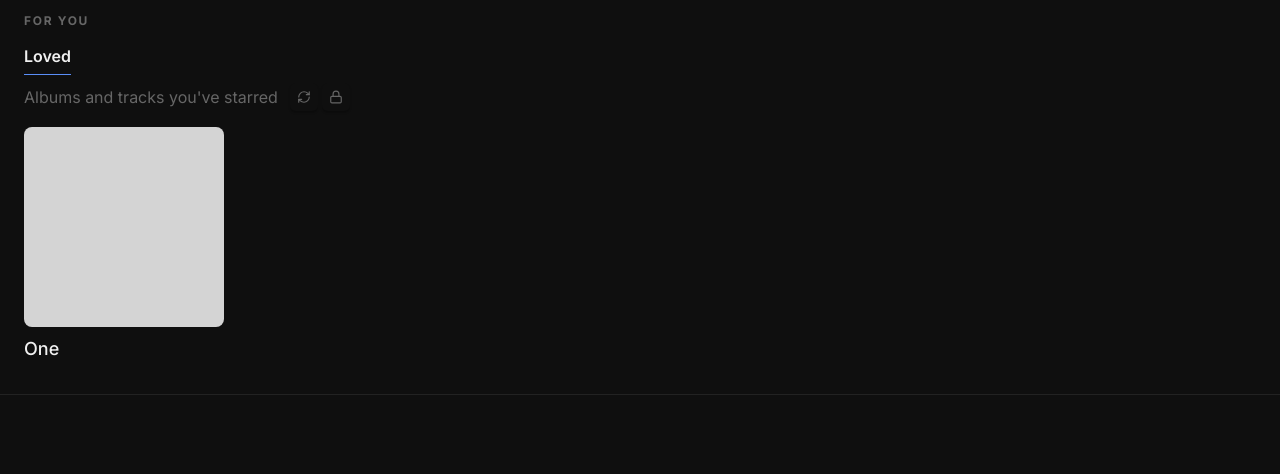
Test: ForYouRail albums per tab › keeps the saved count when the field is cleared or Escape is pressed
This screenshot has width=1280, height=474.
Step 1. Click the button named "Unlock tab reordering" → click(336, 97), box [322,83,350,111]
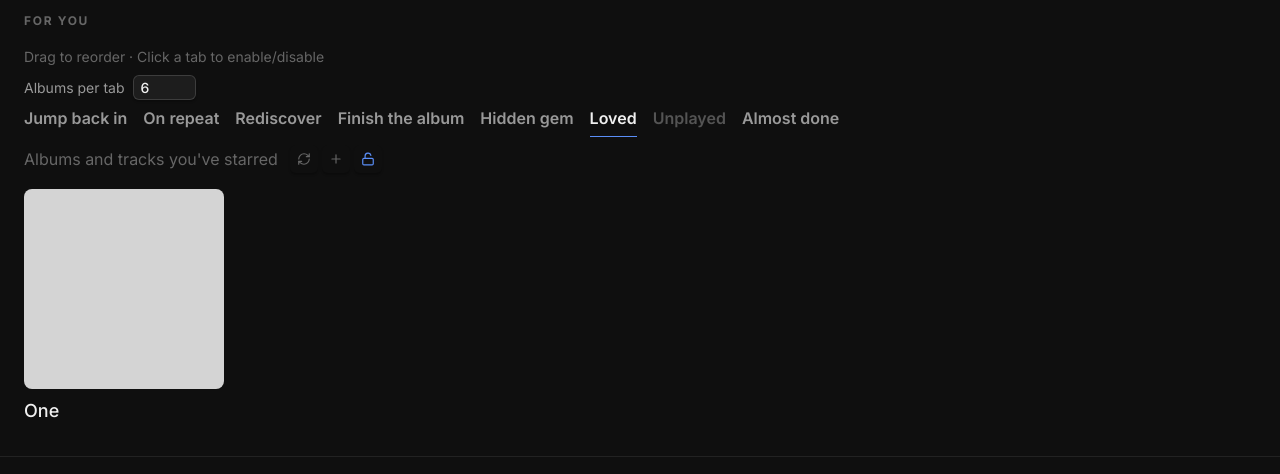
Step 2. Clear the number field labelled "Albums per tab" → (164, 87), box [132,75,196,100]
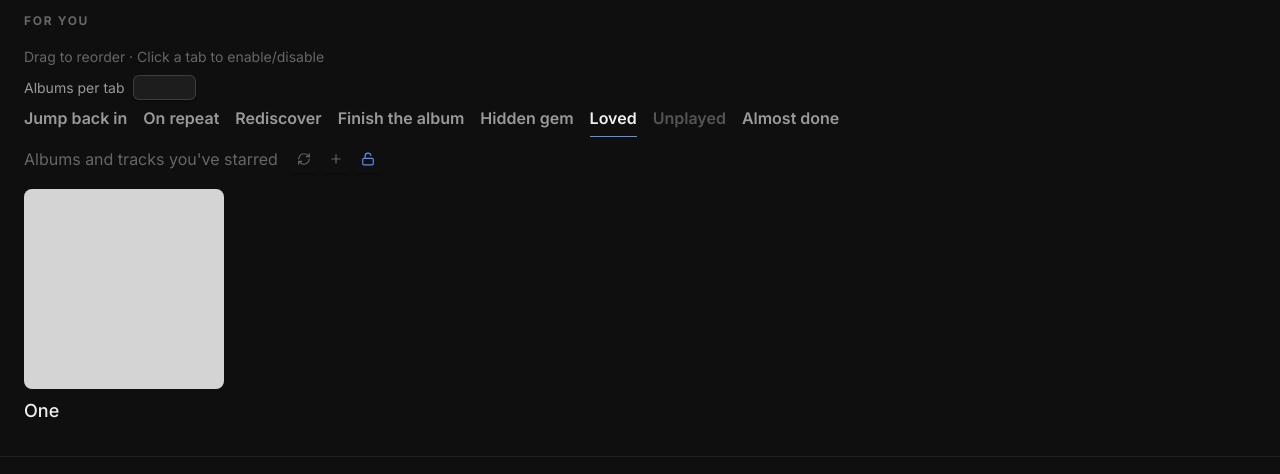
Step 3. Leave the number field labelled "Albums per tab", box [132,75,196,100]
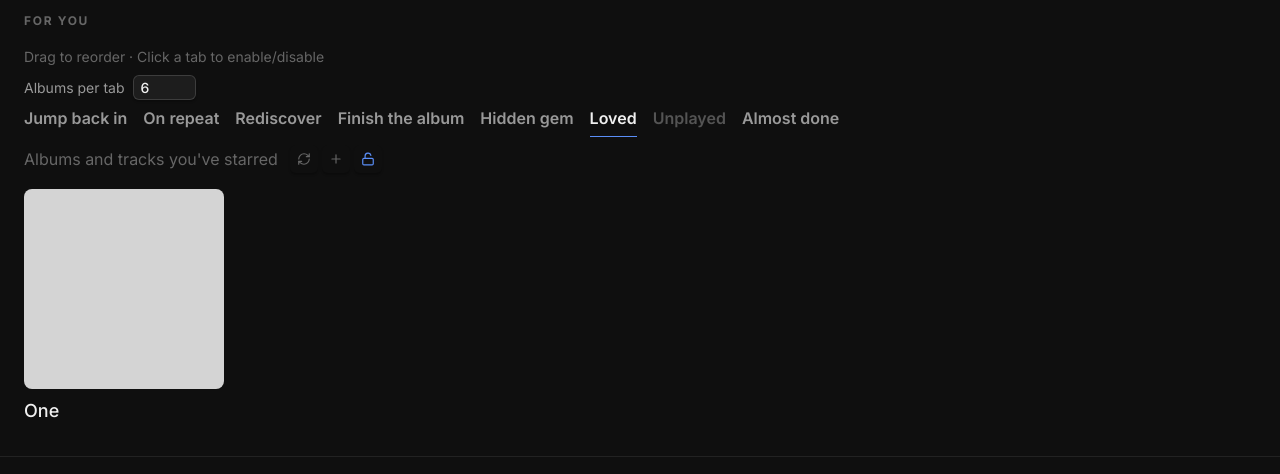
Result: the number field labelled "Albums per tab" holds "6"
Step 4. Replace the text in the number field labelled "Albums per tab" with "9" → (164, 87), box [132,75,196,100]
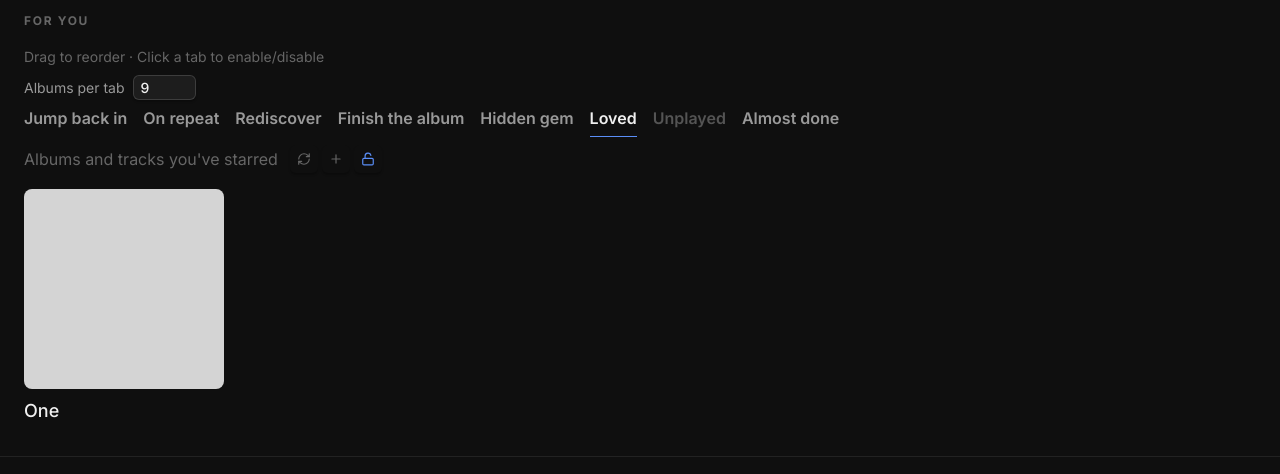
Step 5. Press Escape in the number field labelled "Albums per tab", box [132,75,196,100]
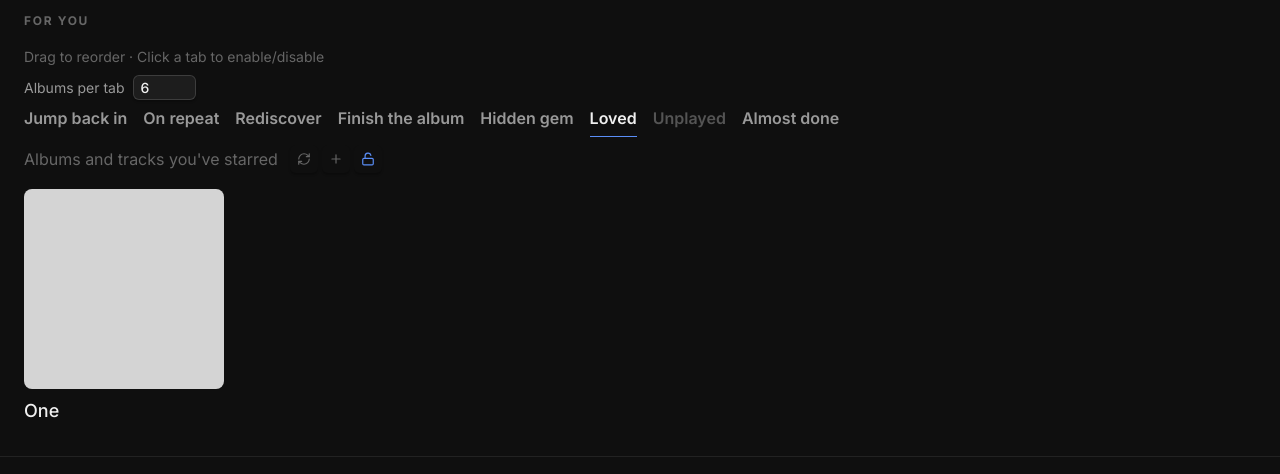
Result: the number field labelled "Albums per tab" holds "6" at [132,75,196,100]
